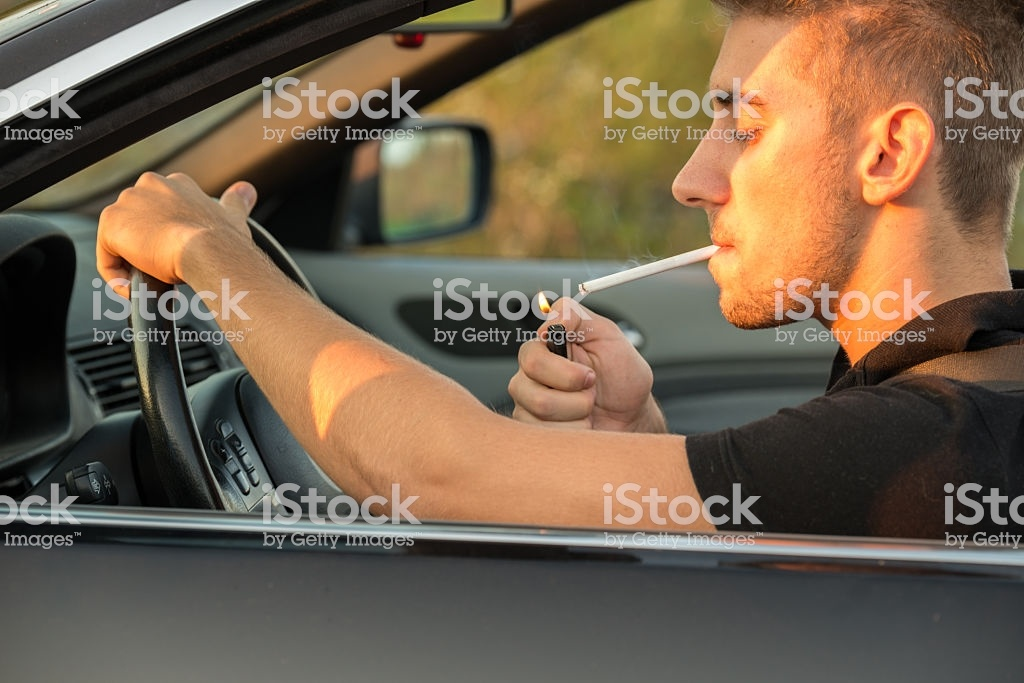sigaretta: (572, 242, 720, 302)
